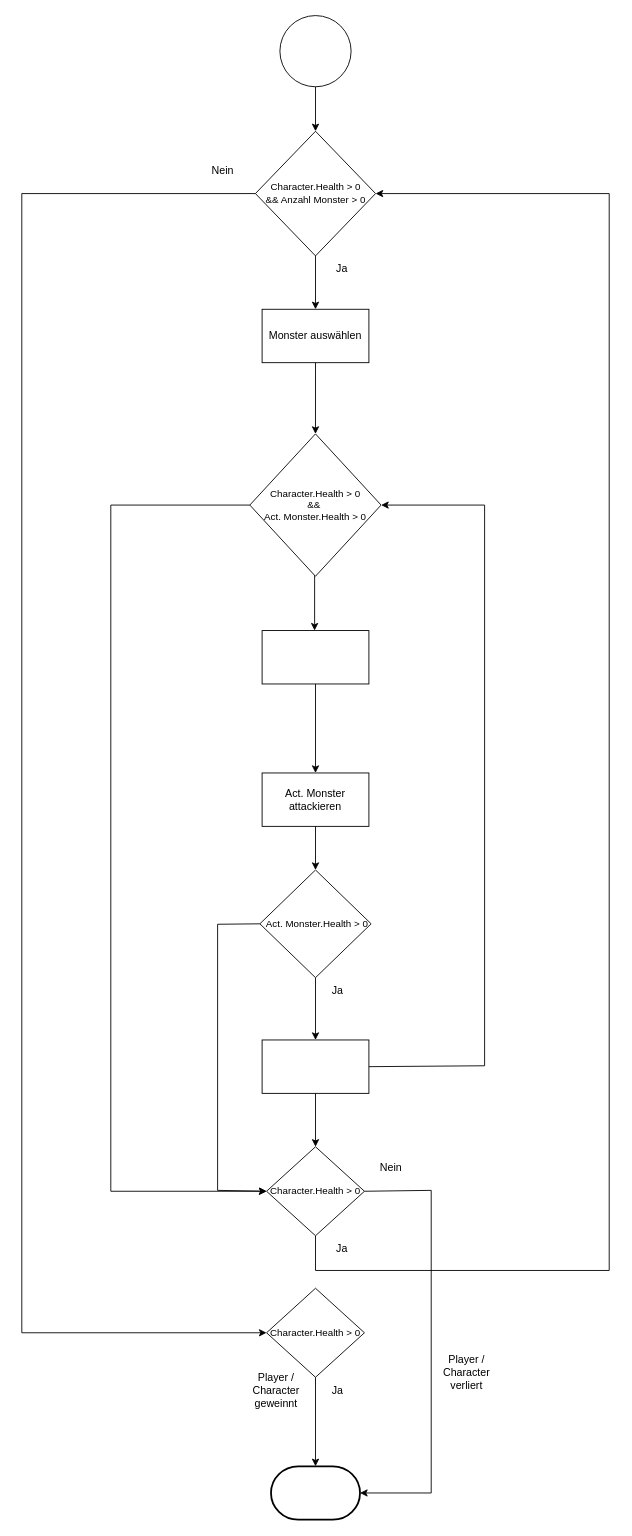
Image size: 632x1536. Some labels were removed from this diagram. Here are the shapes that lost their labels. From the top down, the centre of each, then its label:
the point at 315,51: Start
the point at 315,657: Attacke auswählen
the point at 315,1066: Character attakieren
the point at 315,1492: Ende
